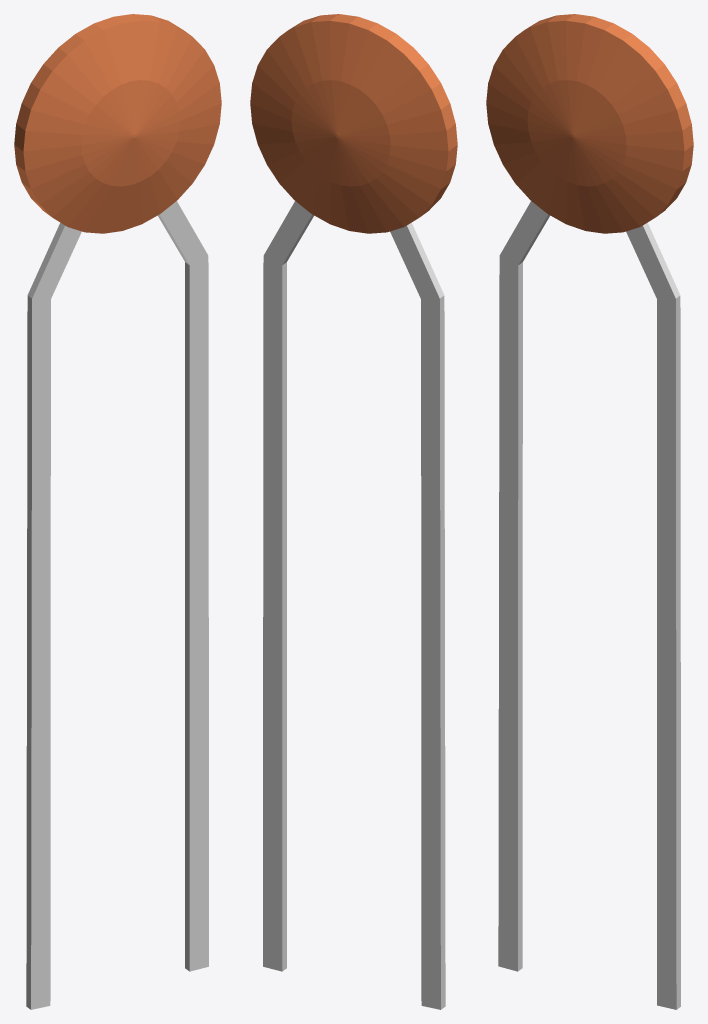
File: Capacitor.glb
The picture shows the model from 3 angles, left to right: view 1: azimuth 30°, elevation 25°; view 2: azimuth 150°, elevation 25°; view 3: azimuth 330°, elevation 25°; orthographic projection.
Parts seen in each view (by area): view 1: Capacitor; view 2: Capacitor; view 3: Capacitor.
Part boxes in pixels (x1=…): Capacitor: x1=14, y1=14, x2=221, y2=1009; Capacitor: x1=250, y1=14, x2=457, y2=1009; Capacitor: x1=486, y1=14, x2=693, y2=1009.
Bounding box in the file's own units: 0.087 × 0.4052 × 0.0258.
